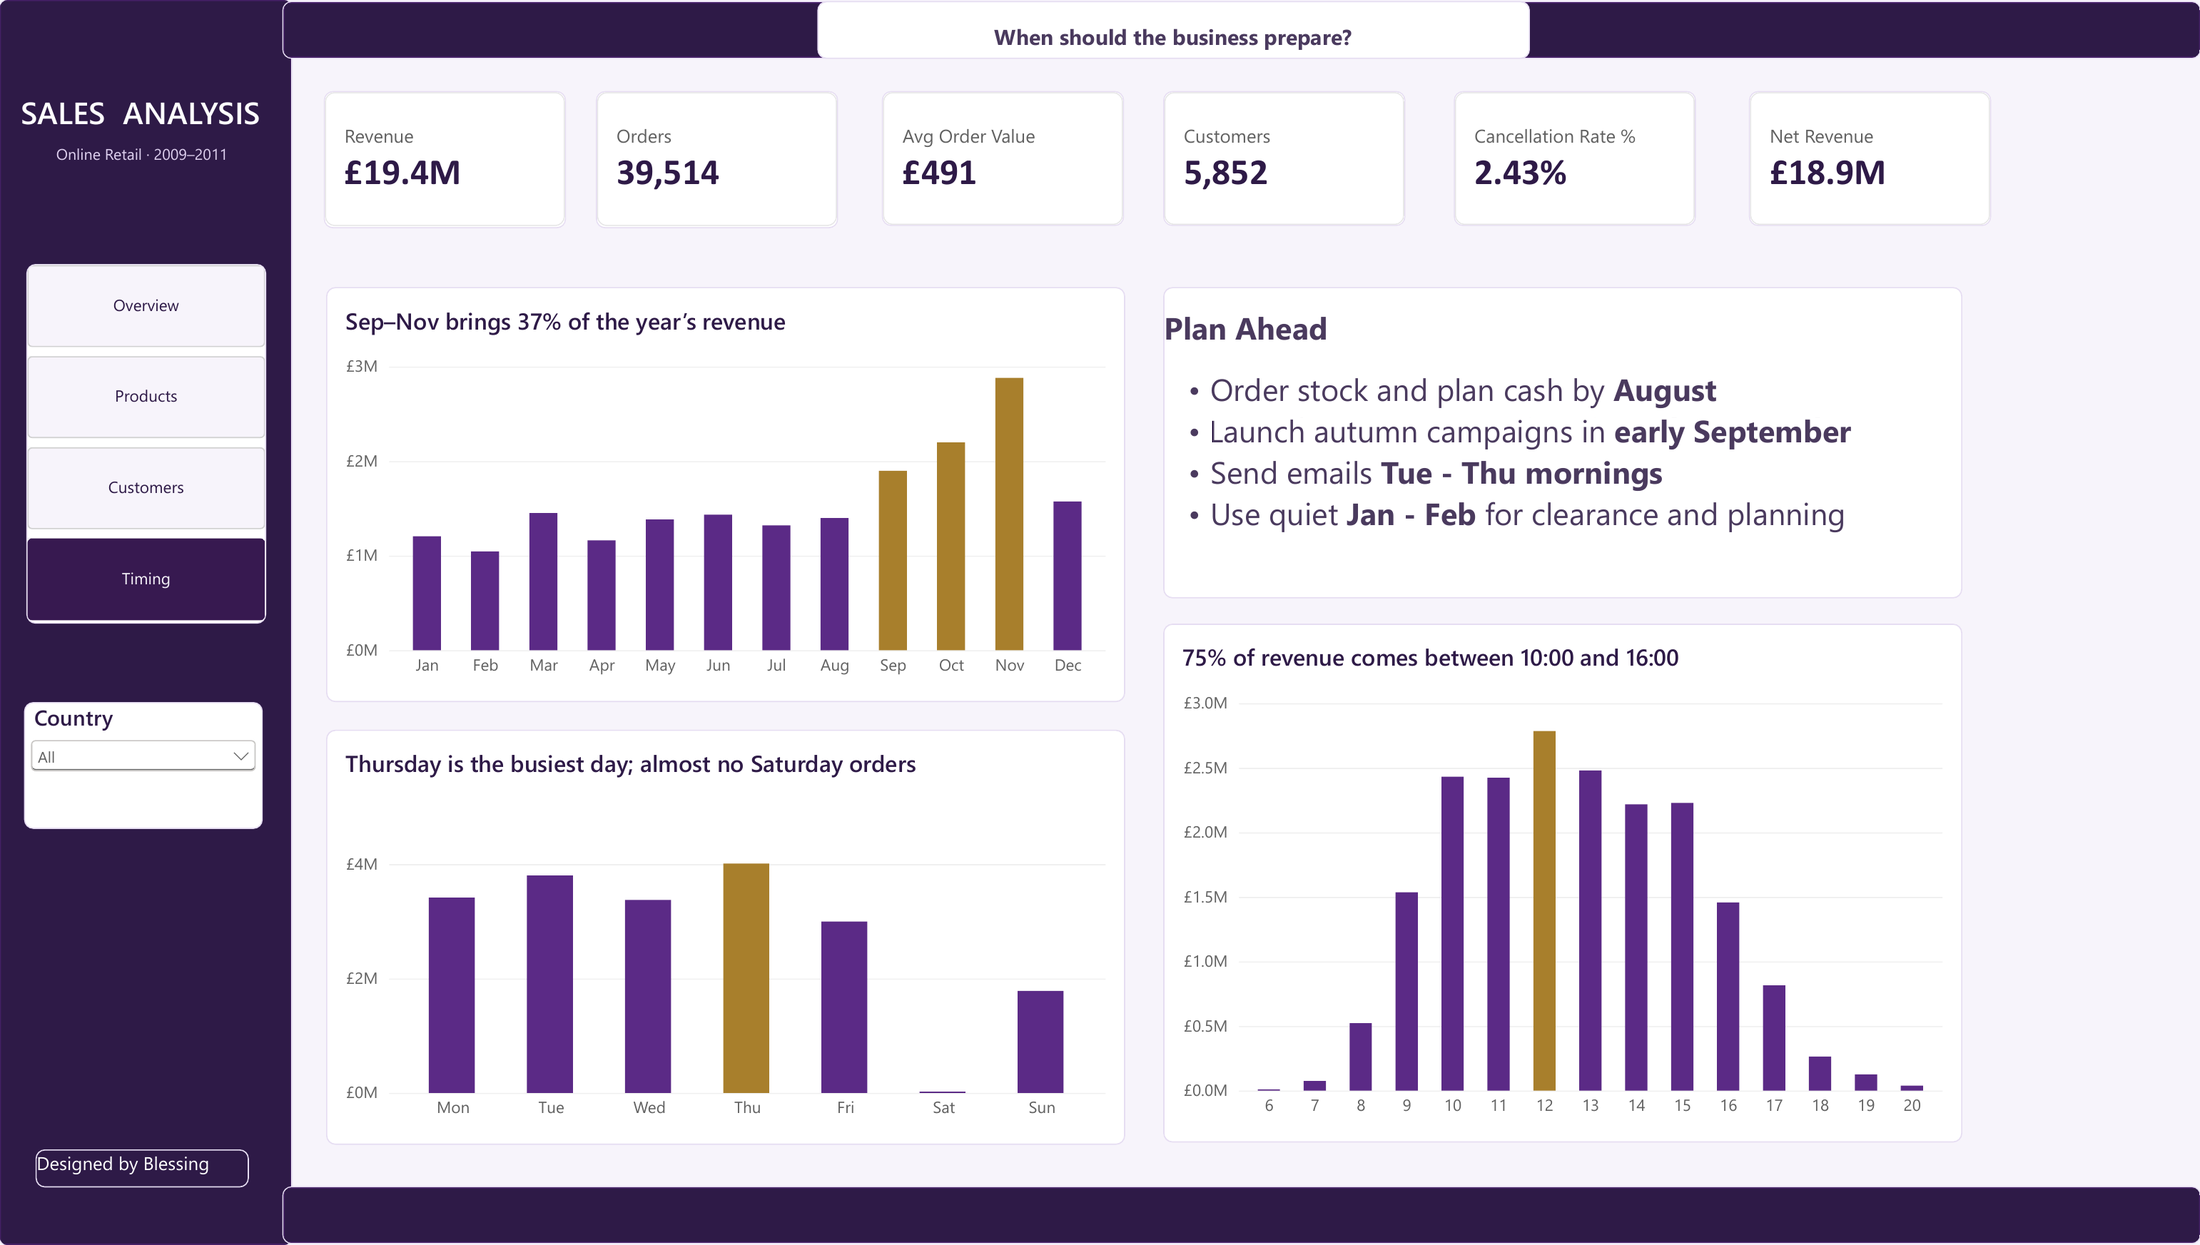

This screenshot's page, from the dashboard's own definition file:
{"tool":"powerbi","page":{"name":"Timing","canvas":[1920,1080],"ordinal":3},"visuals":[{"type":"shape","box":[10,0,255,1081.7],"z":0},{"type":"pageNavigator","box":[33.3,230,208.3,311.7],"z":1000},{"type":"textbox","box":[25,80,218.3,45],"z":2000},{"type":"textbox","box":[36.7,125,196.7,26.7],"z":3000},{"type":"cardVisual","fields":{"Data":["_Measures.Revenue"]},"box":[291.4,80,210,118.6],"z":4000},{"type":"cardVisual","fields":{"Data":["_Measures.Orders"]},"box":[528.6,80,210,118.6],"z":5000},{"type":"cardVisual","fields":{"Data":["_Measures.Avg Order Value"]},"box":[775.7,80,210,117.1],"z":6000},{"type":"cardVisual","fields":{"Data":["_Measures.Customers"]},"box":[1020,80,210,117.1],"z":7000},{"type":"cardVisual","fields":{"Data":["_Measures.Cancellation Rate %"]},"box":[1271.4,80,210,117.1],"z":8000},{"type":"cardVisual","fields":{"Data":["_Measures.Net Revenue"]},"box":[1527.1,80,210,117.1],"z":9000},{"type":"slicer","fields":{"Values":["Sales.country"]},"box":[32.9,610,207.1,110],"z":10000},{"type":"shape","box":[255.7,1.4,1664.3,50],"z":11000},{"type":"shape","box":[255.7,1030,1664.3,50],"z":12000},{"type":"clusteredColumnChart","title":"Sep–Nov brings 37% of the year’s revenue","fields":{"Category":["Calendar.Month"],"Y":["_Measures.Revenue"]},"box":[293.3,250,693.3,360],"z":13000},{"type":"textbox","box":[1020,250,692.5,270],"z":14000},{"type":"clusteredColumnChart","title":"Thursday is the busiest day; almost no Saturday orders","fields":{"Category":["Calendar.Weekday"],"Y":["_Measures.Revenue"]},"box":[293.3,633.3,693.3,360],"z":15000},{"type":"clusteredColumnChart","title":"75% of revenue comes between 10:00 and 16:00","fields":{"Category":["Sales.order_hour"],"Y":["_Measures.Revenue"]},"box":[1020,542.5,692.5,450],"z":16000},{"type":"textbox","box":[42.5,997.5,185,32.5],"z":17000},{"type":"textbox","box":[720,2.5,617.5,50],"z":18000}]}

Visuals, with their boxes in screenshot pixels (x1, y1, x2, y2), scaled from the page's 1920x1080 canvas onto the 2200x1245 screenshot:
shape: 11, 0, 304, 1244
pageNavigator: 38, 265, 277, 624
textbox: 29, 92, 279, 144
textbox: 42, 144, 267, 175
cardVisual - _Measures.Revenue: 334, 92, 575, 229
cardVisual - _Measures.Orders: 606, 92, 846, 229
cardVisual - _Measures.Avg Order Value: 889, 92, 1129, 227
cardVisual - _Measures.Customers: 1169, 92, 1409, 227
cardVisual - _Measures.Cancellation Rate %: 1457, 92, 1697, 227
cardVisual - _Measures.Net Revenue: 1750, 92, 1990, 227
slicer - Sales.country: 38, 703, 275, 830
shape: 293, 2, 2199, 59
shape: 293, 1187, 2199, 1244
"Sep–Nov brings 37% of the year’s revenue" clusteredColumnChart: 336, 288, 1130, 703
textbox: 1169, 288, 1962, 599
"Thursday is the busiest day; almost no Saturday orders" clusteredColumnChart: 336, 730, 1130, 1145
"75% of revenue comes between 10:00 and 16:00" clusteredColumnChart: 1169, 625, 1962, 1144
textbox: 49, 1150, 261, 1187
textbox: 825, 3, 1533, 61
